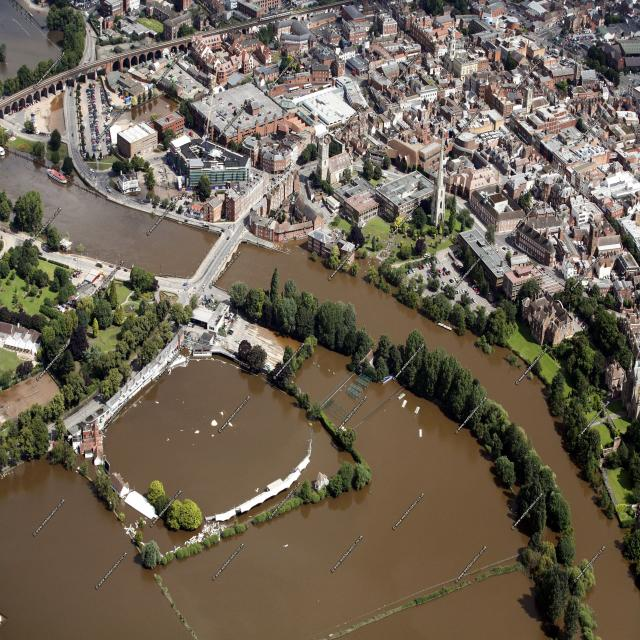flooded_areas: (78, 354, 536, 640), (36, 65, 186, 151), (263, 177, 365, 278)
